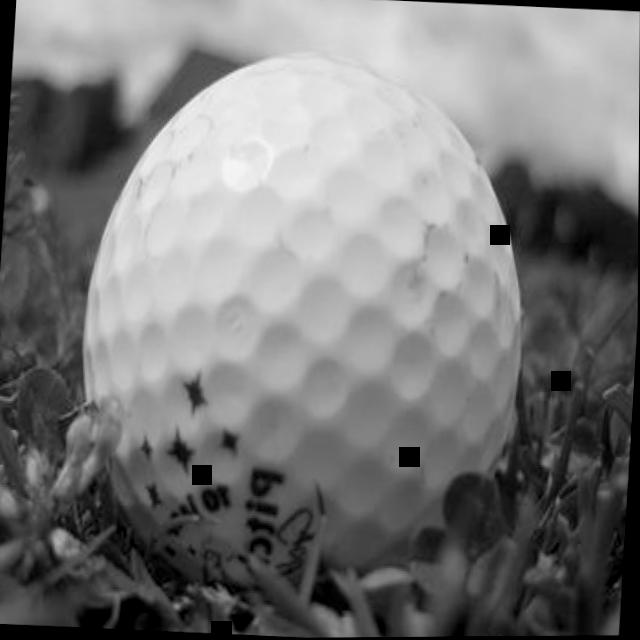golf ball: (58, 24, 550, 609)
